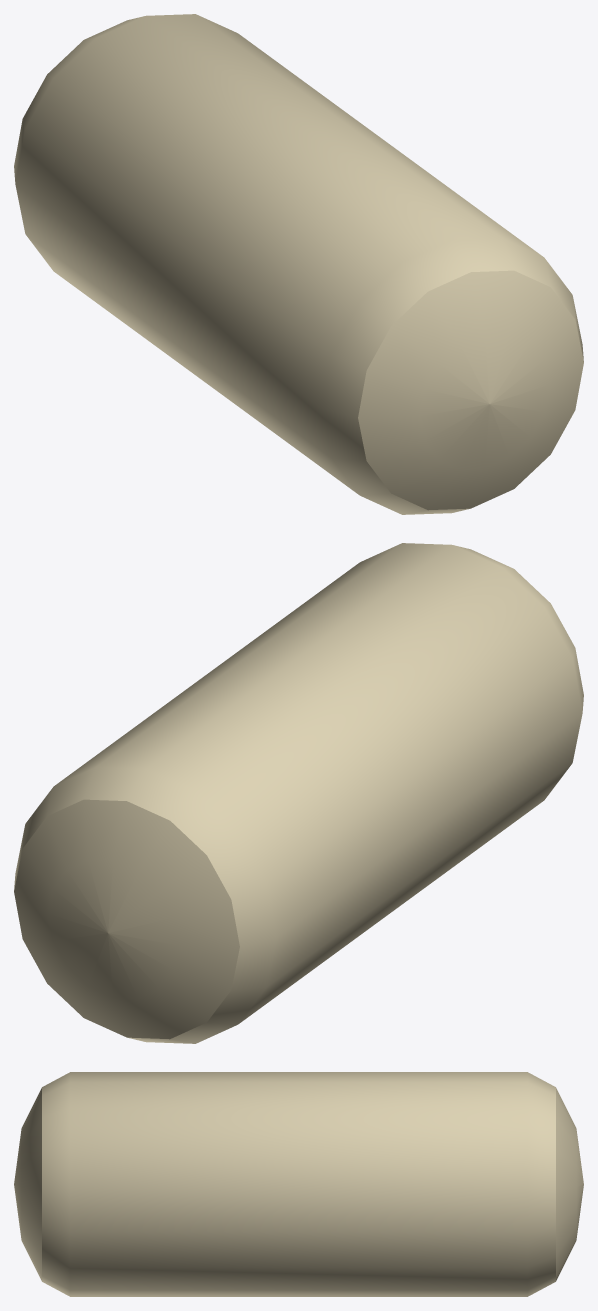
Rendered from tank4200_tank.obj.
The picture shows the model from 3 angles, top to bottom: view 1: azimuth 30°, elevation 25°; view 2: azimuth 150°, elevation 25°; view 3: azimuth 270°, elevation 25°; orthographic projection. The views are drawn at different scales.
Parts seen in each view (by area): view 1: tank4200_tank; view 2: tank4200_tank; view 3: tank4200_tank.
Part boxes in pixels (left/top/right/bottom): tank4200_tank: left=14, top=14, right=583, bottom=514; tank4200_tank: left=14, top=543, right=583, bottom=1043; tank4200_tank: left=14, top=1072, right=583, bottom=1296.
Bounding box in the file's own units: 12 × 12 × 30.4.
